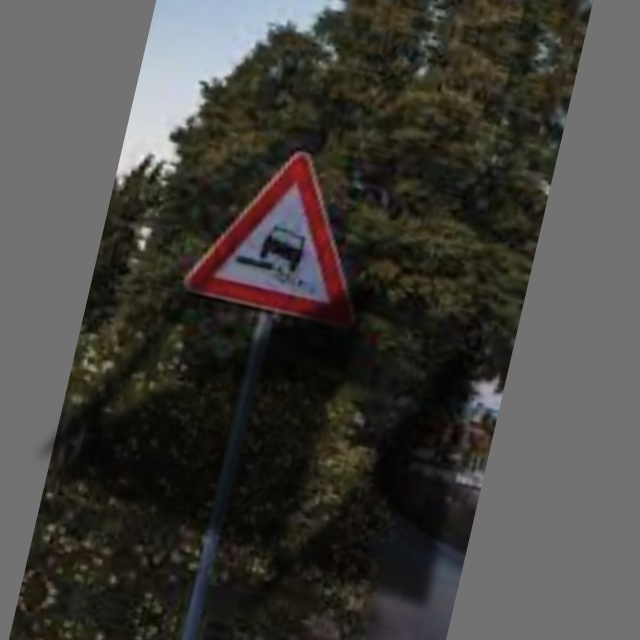Loose_Gravel: (195, 140, 381, 328)
